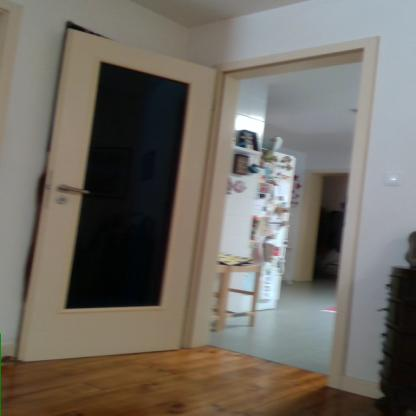open: (12, 13, 380, 404)
